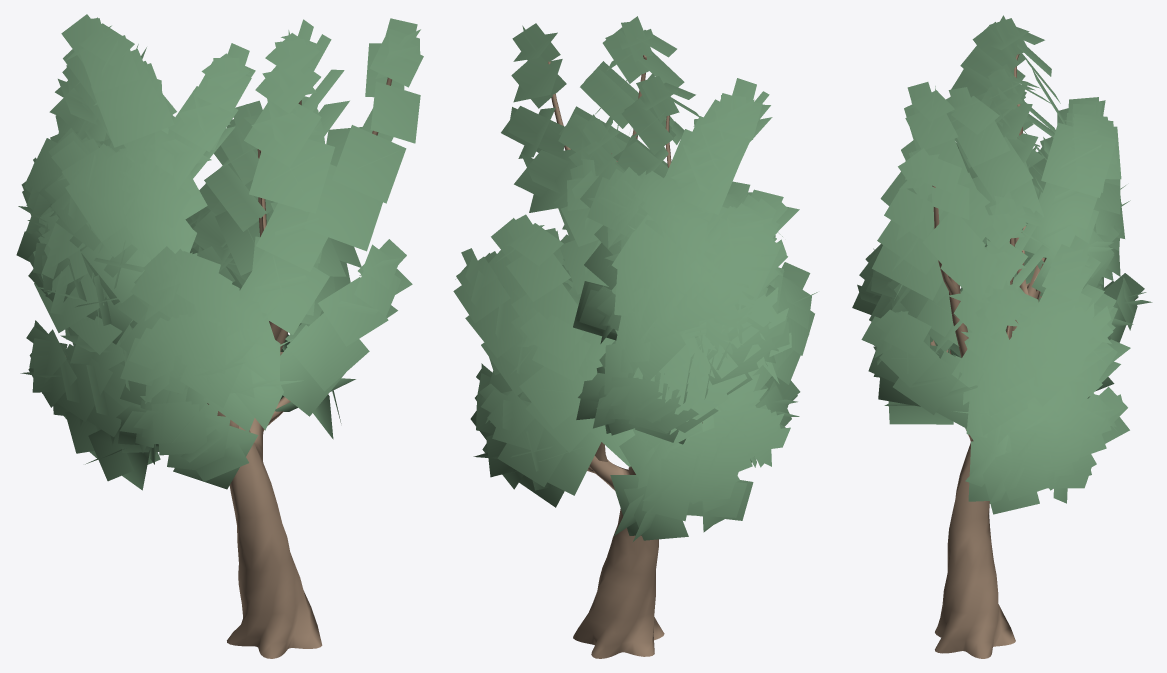
File: tallshrub_1.glb
The picture shows the model from 3 angles, left to right: view 1: azimuth 30°, elevation 25°; view 2: azimuth 150°, elevation 25°; view 3: azimuth 270°, elevation 25°; orthographic projection. The views are drawn at different scales.
Parts seen in each view (by area): view 1: TwistedTree_2; view 2: TwistedTree_2; view 3: TwistedTree_2.
Part boxes in pixels (bbox=[...]): TwistedTree_2: bbox=[16, 14, 423, 658]; TwistedTree_2: bbox=[453, 16, 817, 658]; TwistedTree_2: bbox=[852, 15, 1152, 658].
Bounding box in the file's own units: 1.39 × 2.5 × 1.21.
